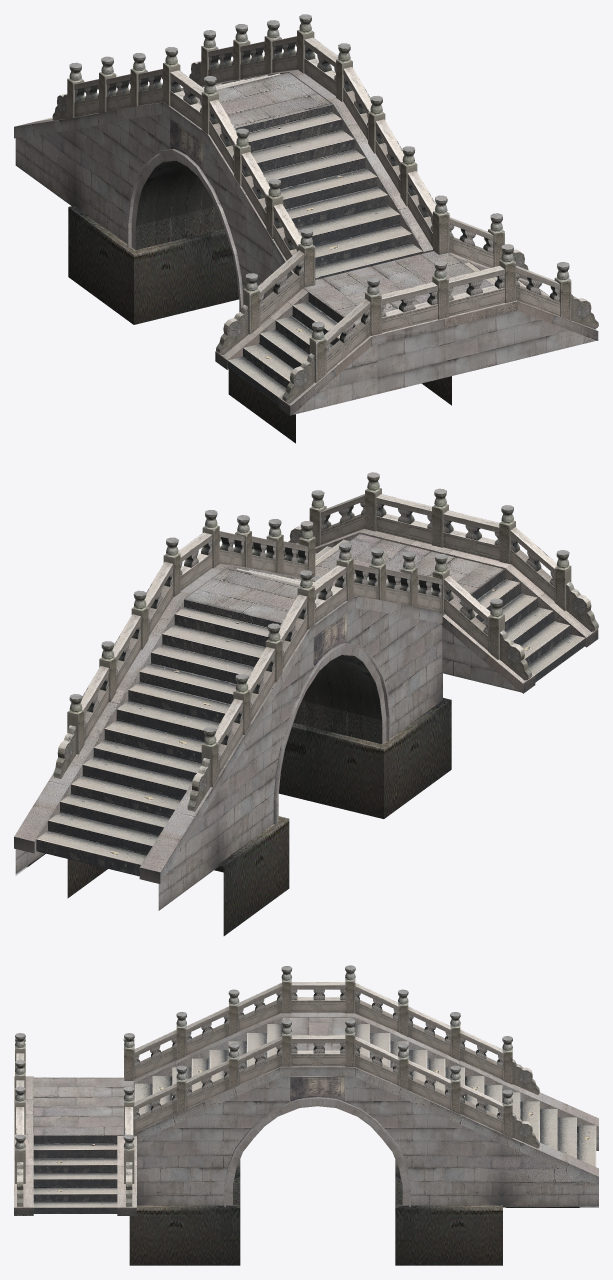
Rendered from Building_LT_BridgeWSQ.FBX.
3 views of the same model, one above another, from view 1: azimuth 30°, elevation 25°; view 2: azimuth 150°, elevation 25°; view 3: azimuth 270°, elevation 25° (orthographic). The views are drawn at different scales.
Visible parts, largest first — view 1: Building_BridgeWSQ; view 2: Building_BridgeWSQ; view 3: Building_BridgeWSQ.
Boxes of the visible parts, box(x1,y1,x2,y2) form: Building_BridgeWSQ: box(14, 14, 598, 443); Building_BridgeWSQ: box(14, 472, 598, 935); Building_BridgeWSQ: box(14, 965, 598, 1265).
Bounding box in the file's own units: 851 × 1684 × 762.
